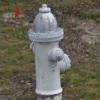Hydrant: (21, 1, 75, 100)
